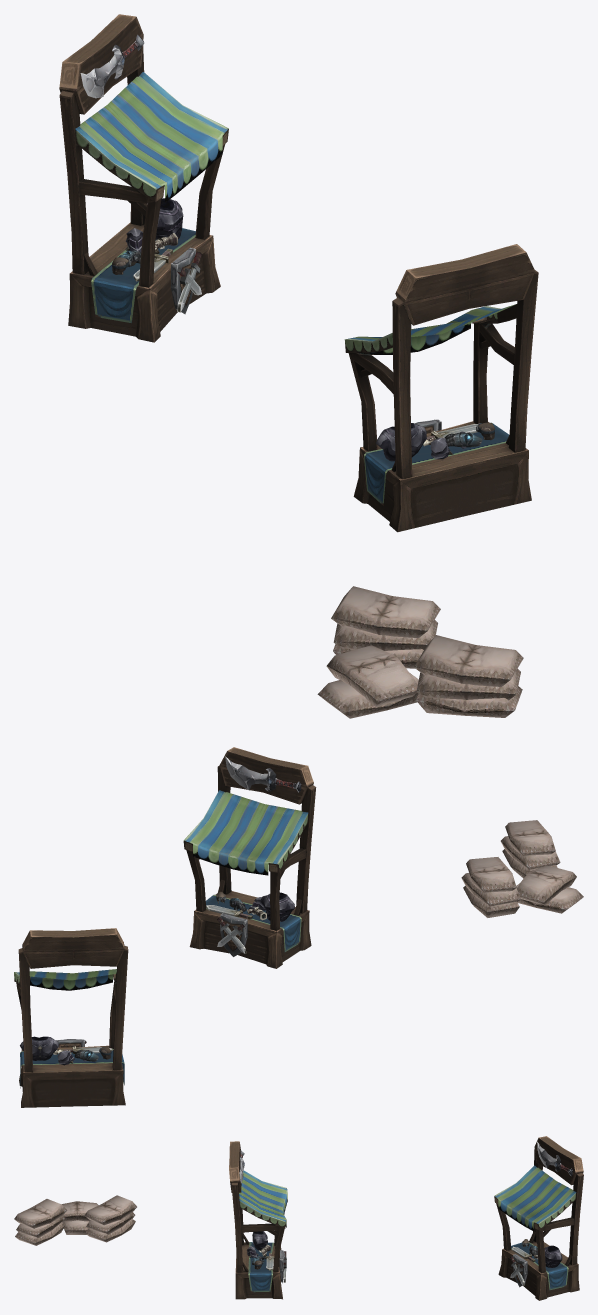
File: menu_object_market02.fbx
The picture shows the model from 3 angles, top to bottom: view 1: azimuth 30°, elevation 25°; view 2: azimuth 150°, elevation 25°; view 3: azimuth 270°, elevation 25°; orthographic projection. The views are drawn at different scales.
Parts seen in each view (by area): view 1: menu_object_market02-0; view 2: menu_object_market02-0; view 3: menu_object_market02-0.
Part boxes in pixels (x1,y1,x2,y2): menu_object_market02-0: (59, 14, 538, 718); menu_object_market02-0: (14, 747, 583, 1107); menu_object_market02-0: (14, 1136, 583, 1300).
Bounding box in the file's own units: 7.06 × 4.91 × 19.08.
